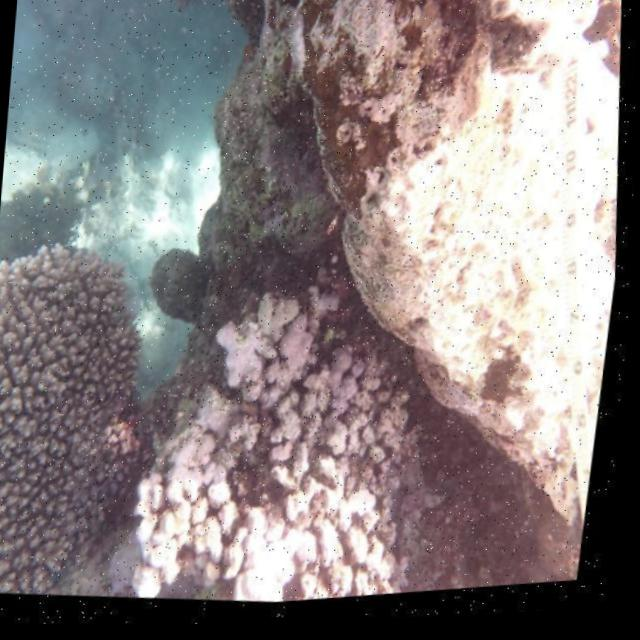Bleached Coral: (107, 272, 457, 634)
